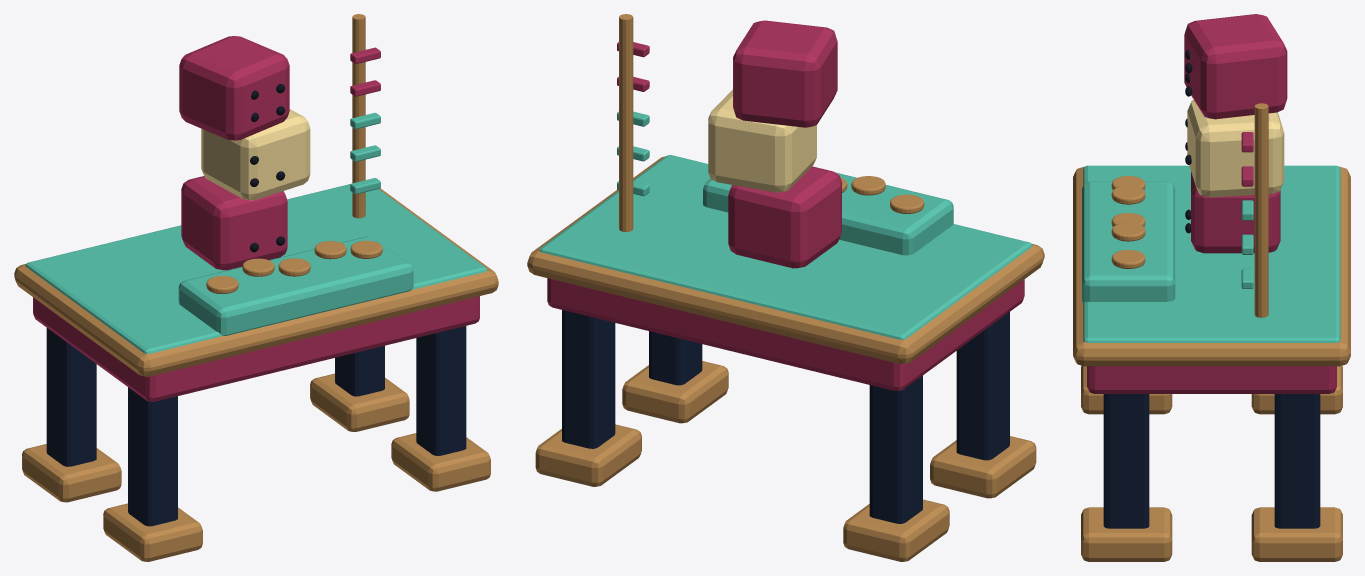
Rendered from PushYourLuckDice.fbx.
3 views of the same model, side by side, from view 1: azimuth 30°, elevation 25°; view 2: azimuth 150°, elevation 25°; view 3: azimuth 270°, elevation 25° (orthographic). The views are drawn at different scales.
Parts seen in each view (by area): view 1: PushYourLuckDice.Mesh, PushYourLuckDice.DiceTower.Mesh; view 2: PushYourLuckDice.Mesh, PushYourLuckDice.DiceTower.Mesh; view 3: PushYourLuckDice.Mesh, PushYourLuckDice.DiceTower.Mesh.
Part boxes in pixels (x1=…): PushYourLuckDice.Mesh: x1=14, y1=14, x2=498, y2=561; PushYourLuckDice.DiceTower.Mesh: x1=179, y1=36, x2=310, y2=270; PushYourLuckDice.Mesh: x1=527, y1=14, x2=1044, y2=561; PushYourLuckDice.DiceTower.Mesh: x1=708, y1=20, x2=841, y2=268; PushYourLuckDice.Mesh: x1=1073, y1=103, x2=1350, y2=561; PushYourLuckDice.DiceTower.Mesh: x1=1184, y1=14, x2=1287, y2=253.
Size of the model in its own units: 220 by 244 by 140.
